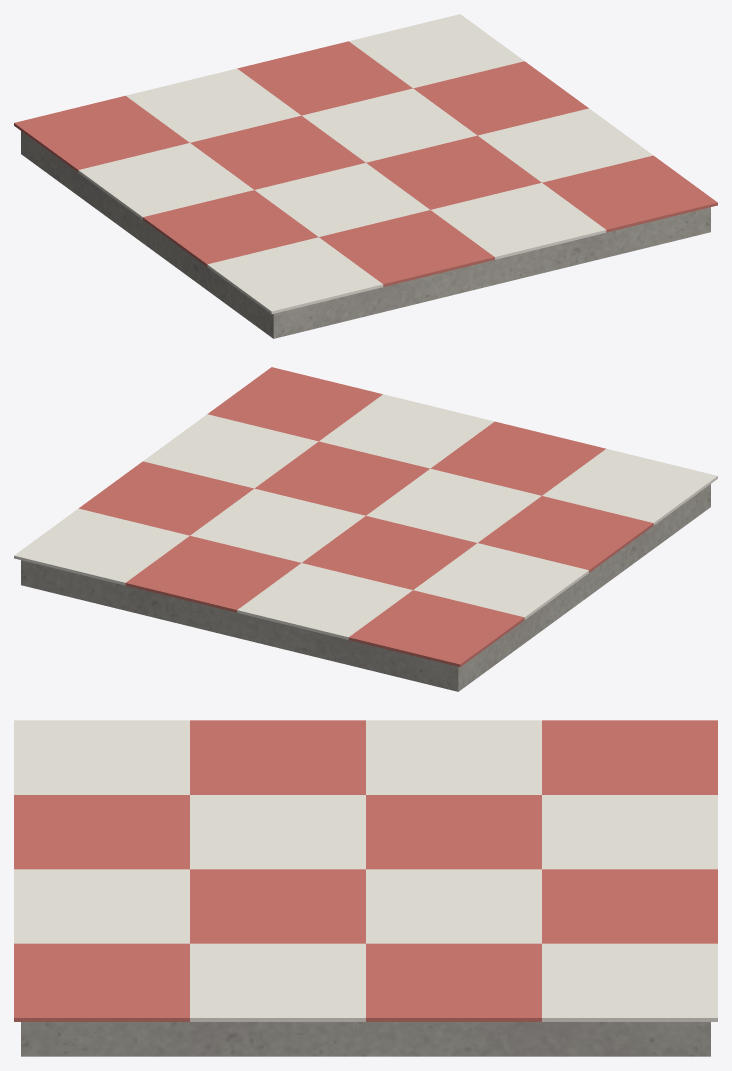
Rendered from floor_dine.glb.
3 renders of one model, top to bottom at view 1: azimuth 30°, elevation 25°; view 2: azimuth 150°, elevation 25°; view 3: azimuth 270°, elevation 25°, orthographic. The views are drawn at different scales.
Visible parts, largest first — view 1: floor_dine_tile_r, floor_dine_tile_w, floor_dine_concrete; view 2: floor_dine_tile_w, floor_dine_tile_r, floor_dine_concrete; view 3: floor_dine_tile_r, floor_dine_tile_w, floor_dine_concrete.
Part boxes in pixels (<box>): floor_dine_tile_r: <box>14,41,717,286</box>; floor_dine_tile_w: <box>78,14,653,314</box>; floor_dine_concrete: <box>21,131,710,338</box>; floor_dine_tile_w: <box>14,394,717,639</box>; floor_dine_tile_r: <box>78,367,653,667</box>; floor_dine_concrete: <box>21,484,710,691</box>; floor_dine_tile_r: <box>14,720,717,1021</box>; floor_dine_tile_w: <box>14,720,717,1021</box>; floor_dine_concrete: <box>21,1022,710,1056</box>.
Bounding box in the file's own units: 2 × 0.13 × 2.
3 materials, 1 textured.
